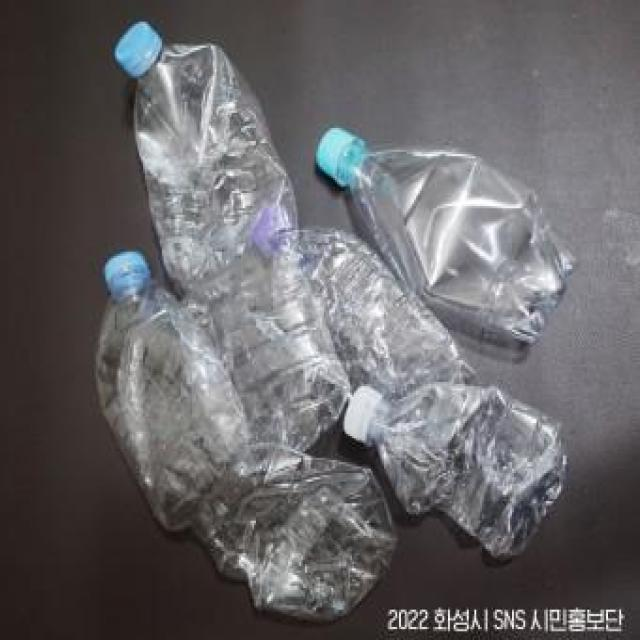bottle: (96, 254, 397, 616), (115, 24, 350, 455), (316, 127, 576, 346), (247, 203, 478, 396), (338, 382, 562, 557)
